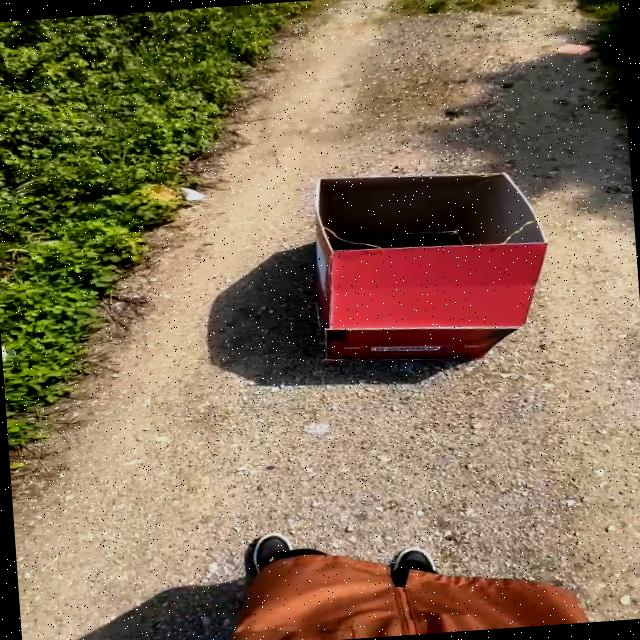red_car: (272, 158, 560, 379)
